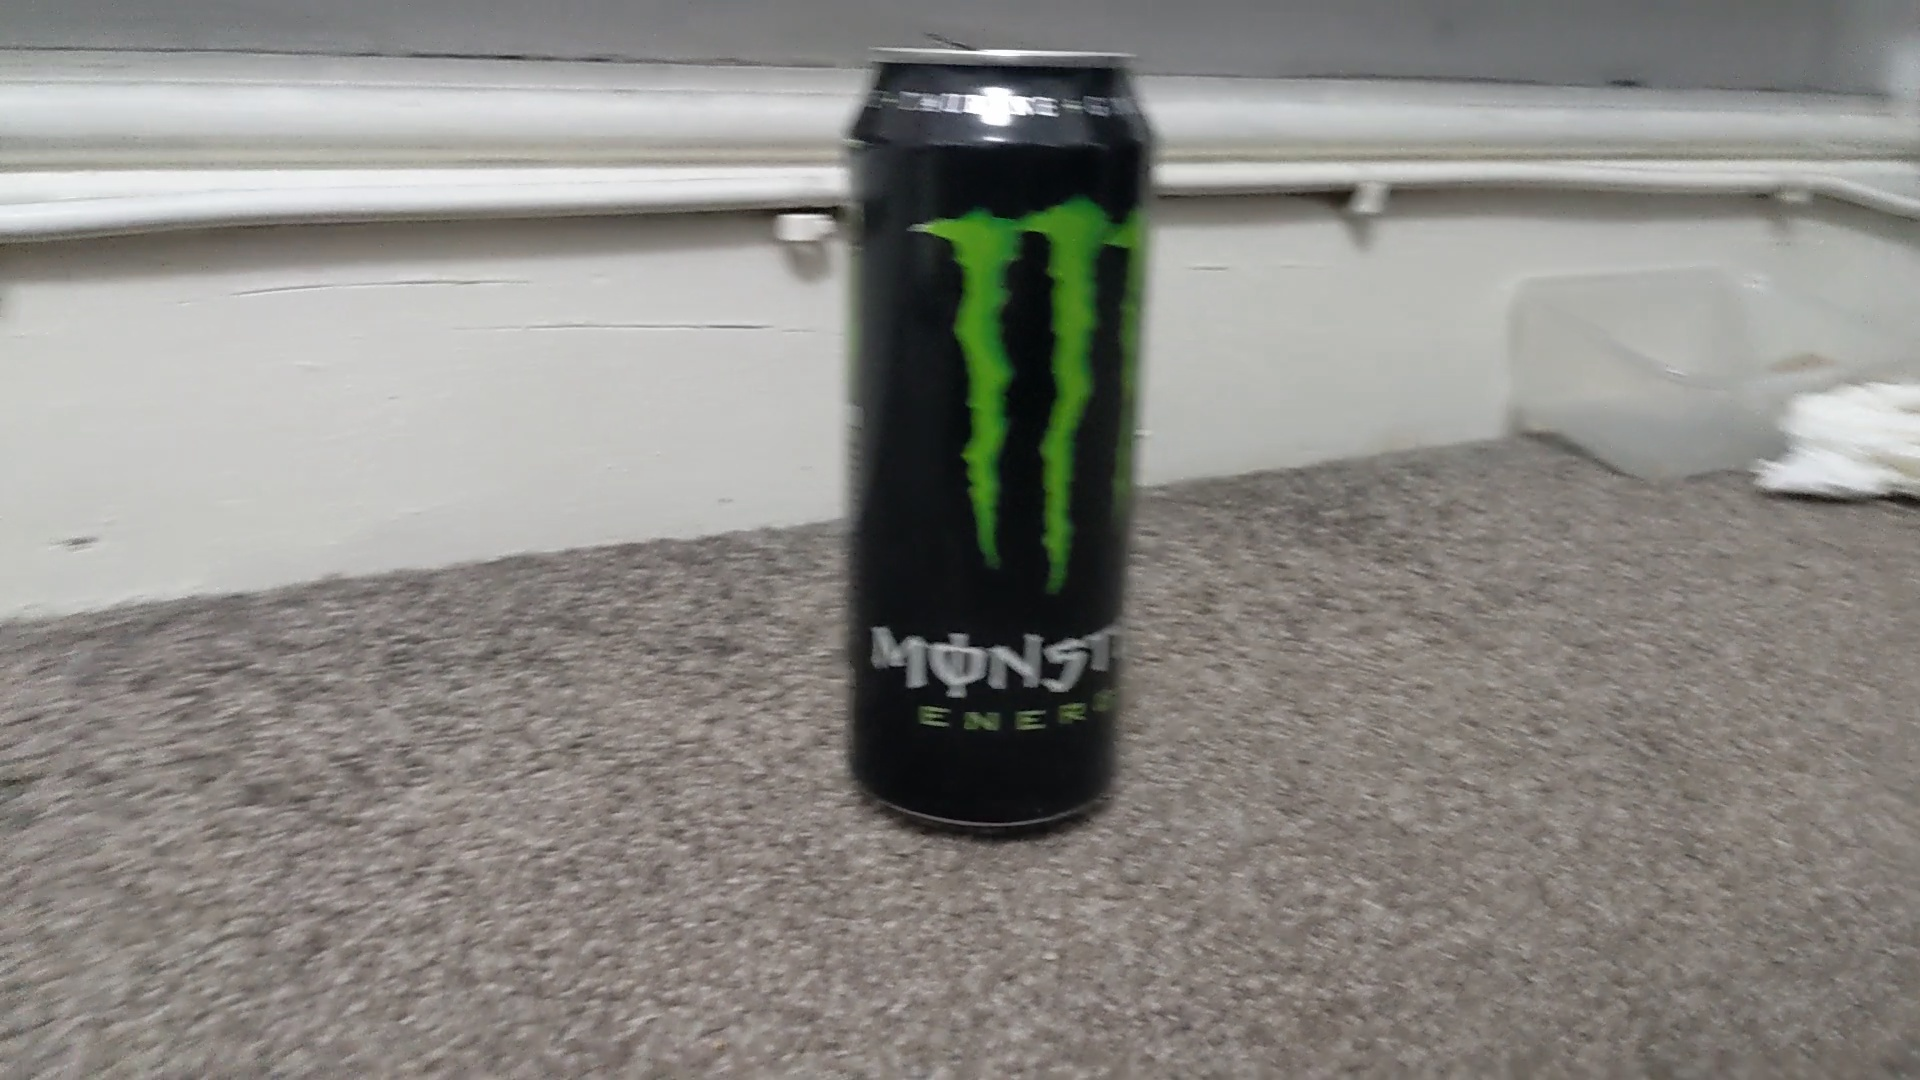monster-original: (832, 40, 1162, 833)
